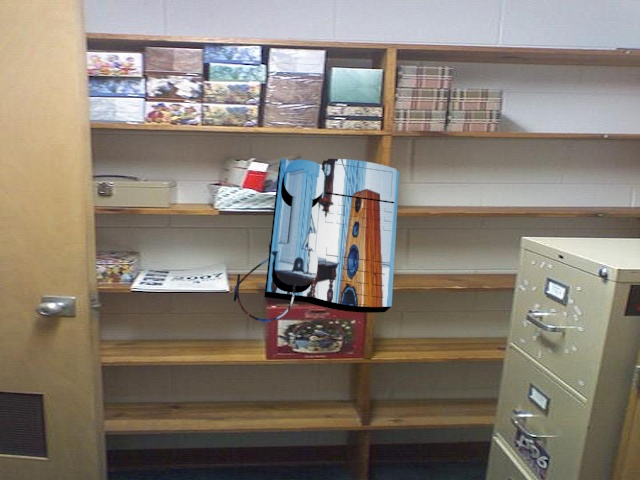phone: (224, 144, 401, 336)
